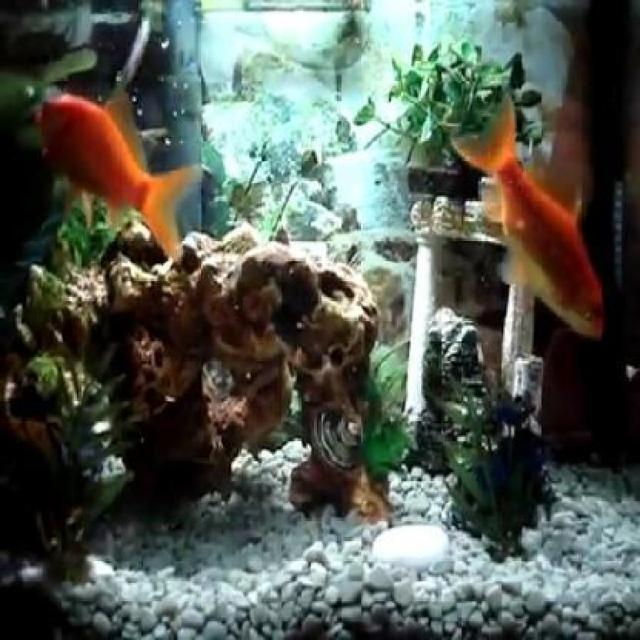GoldFish: (452, 110, 600, 336), (37, 89, 208, 262)
